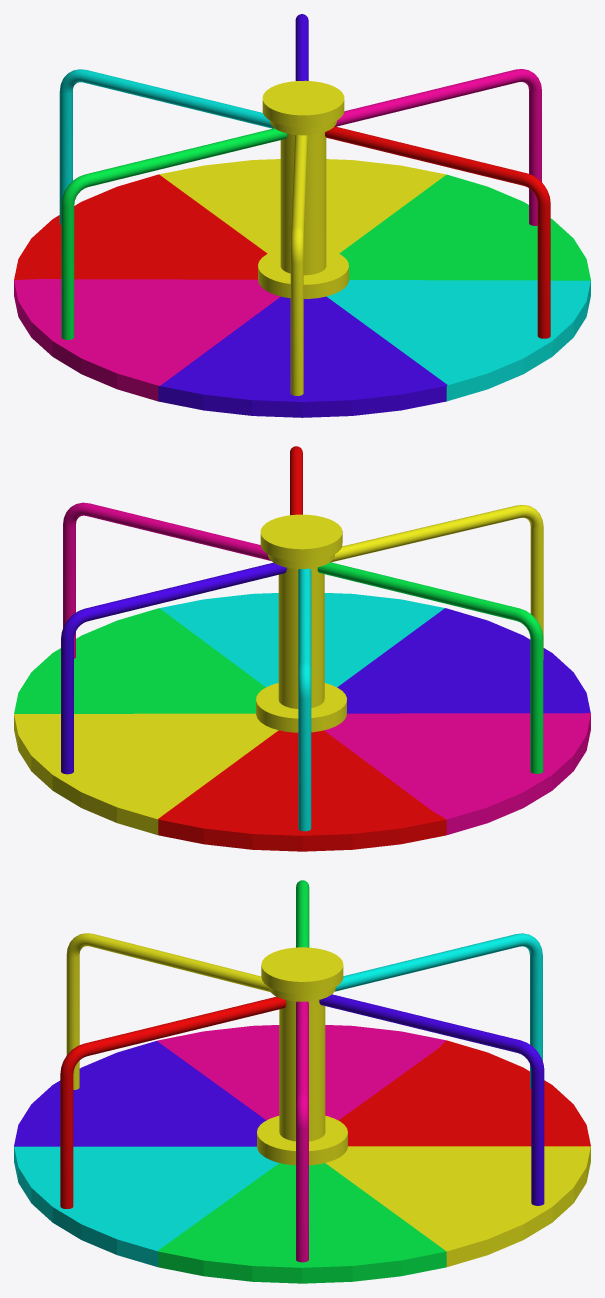
The model's file is Roundabout.fbx.
3 renders of one model, top to bottom at view 1: azimuth 30°, elevation 25°; view 2: azimuth 150°, elevation 25°; view 3: azimuth 270°, elevation 25°, orthographic.
Visible parts, largest first — view 1: roundabout; view 2: roundabout; view 3: roundabout.
Boxes of the visible parts, <box> form: roundabout: <box>14,14,590,417</box>; roundabout: <box>14,446,590,851</box>; roundabout: <box>14,880,590,1283</box>.
Bounding box in the file's own units: 200 × 80.85 × 200.
